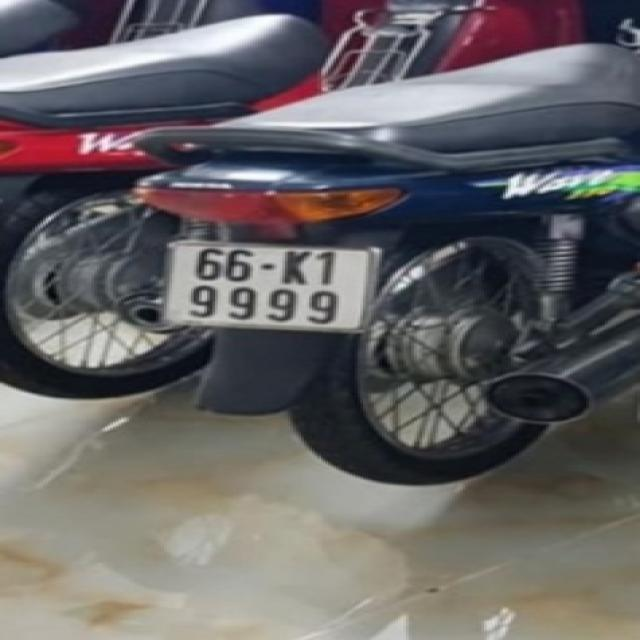1: (315, 249, 340, 286)
6: (195, 247, 224, 282), (230, 247, 258, 281)
9: (183, 283, 219, 319), (308, 290, 342, 324), (227, 285, 259, 320), (270, 286, 295, 321)
K: (280, 248, 311, 285)
